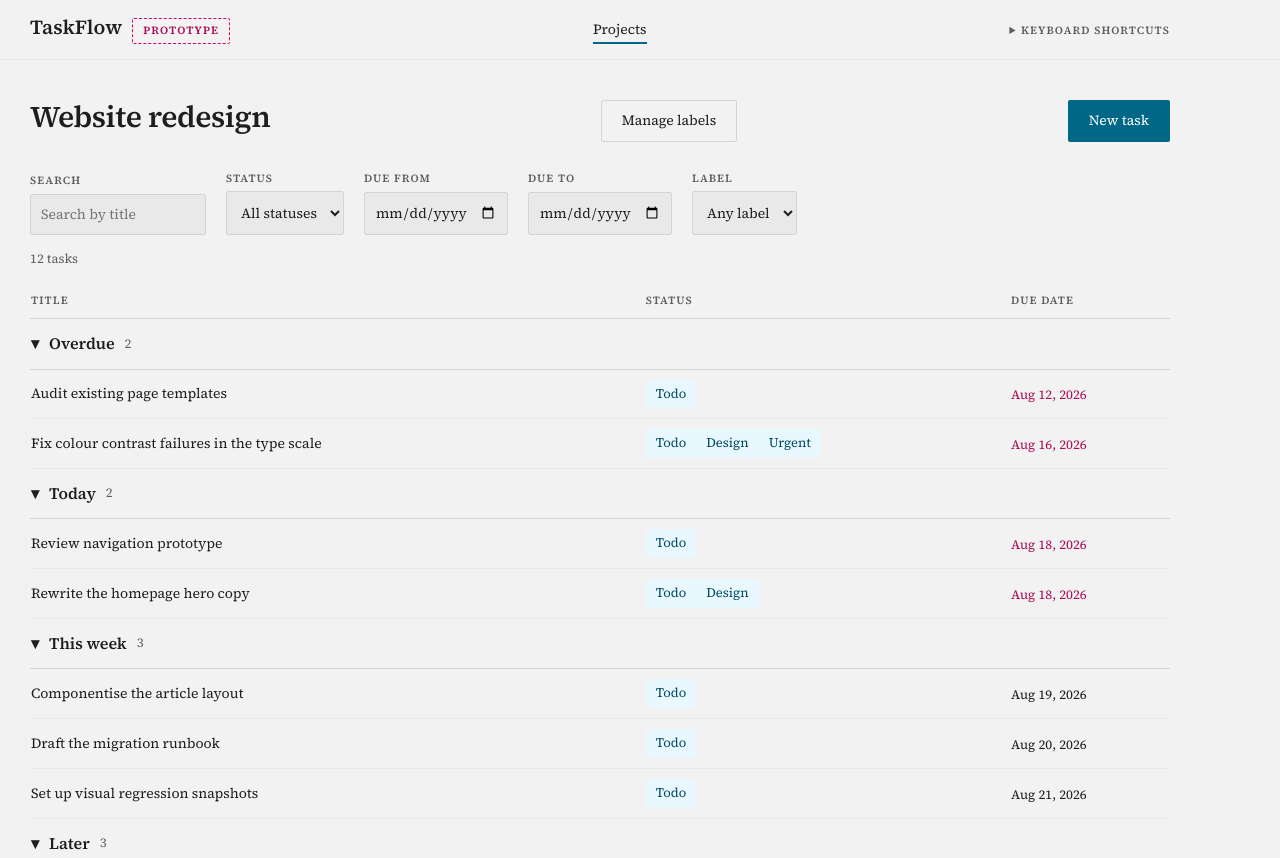
TaskListPage › filters reach the URL › a status change is reflected in the address and as a removable chip
Select "Todo" in the dropdown labelled "Status" at (285, 213), box [226,191,344,235]
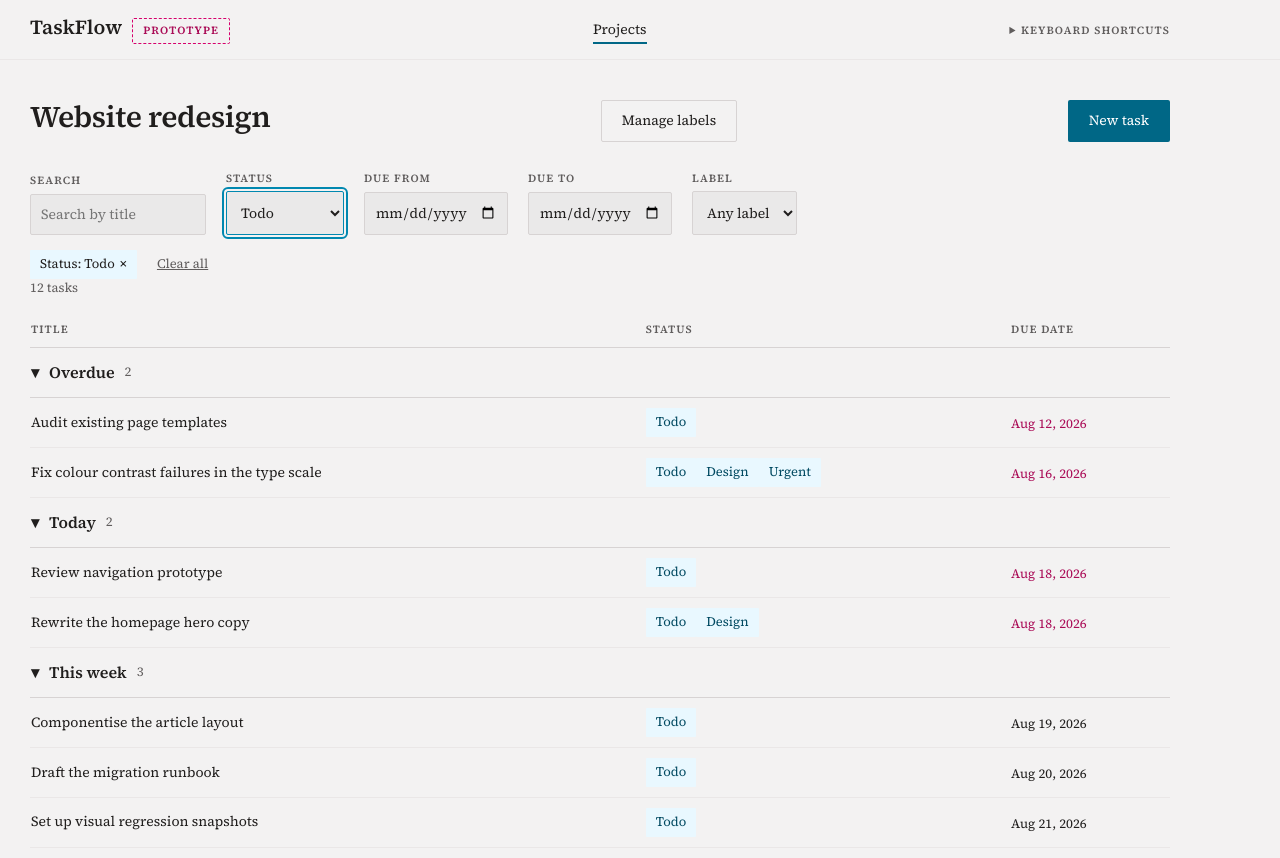
expect the button "Status: Todo ×" is shown: met
Click the button "Status: Todo ×" at (83, 265), box [30,250,137,279]
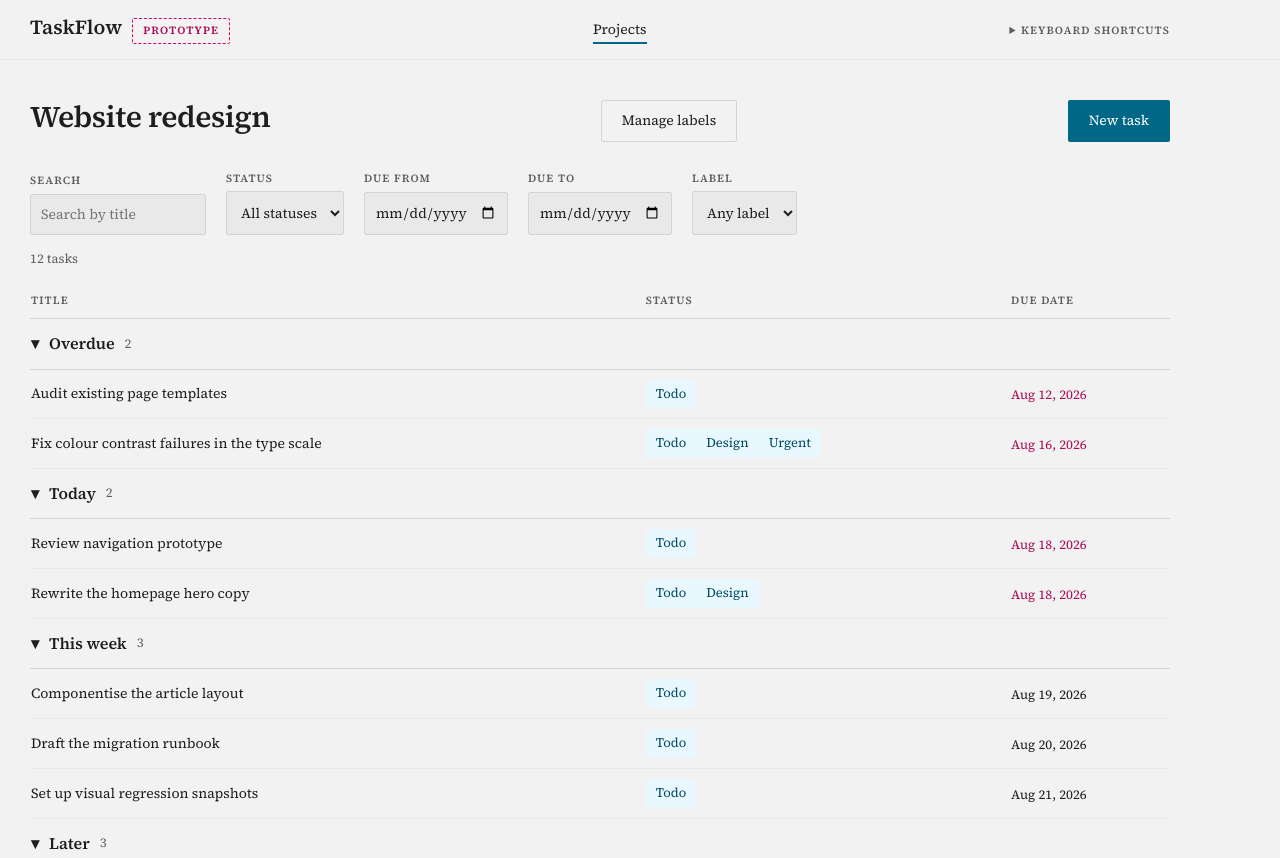
expect the button "Status: Todo" is gone: met
